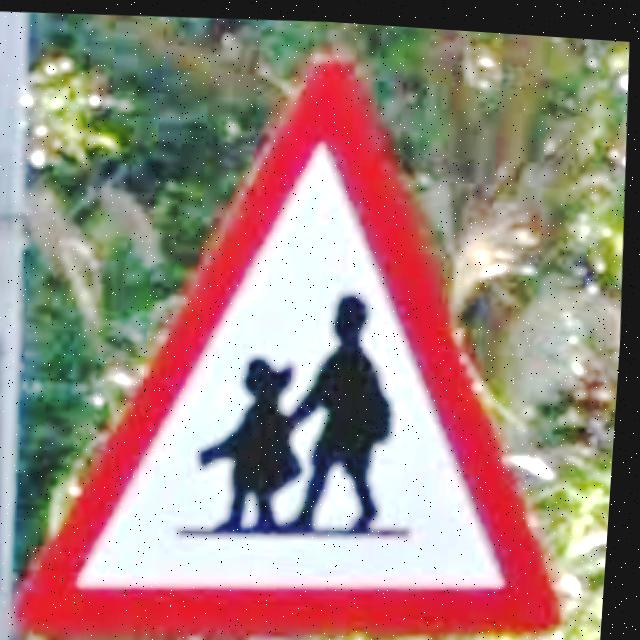childrencross: (22, 57, 569, 628)
